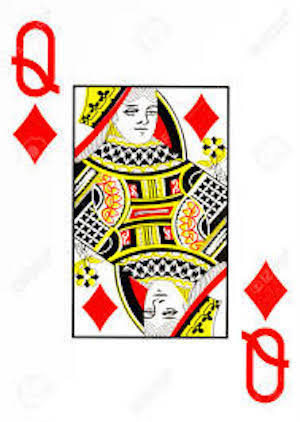QueenOfDiamonds: (7, 6, 298, 410)
